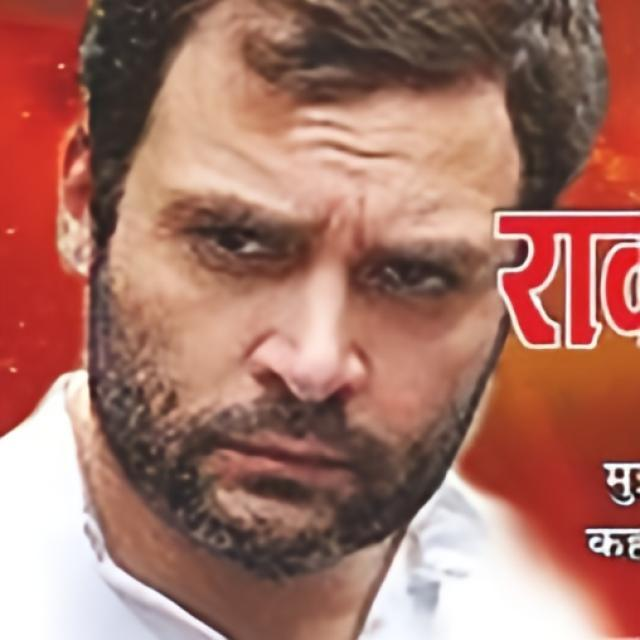anger: (104, 32, 510, 554)
